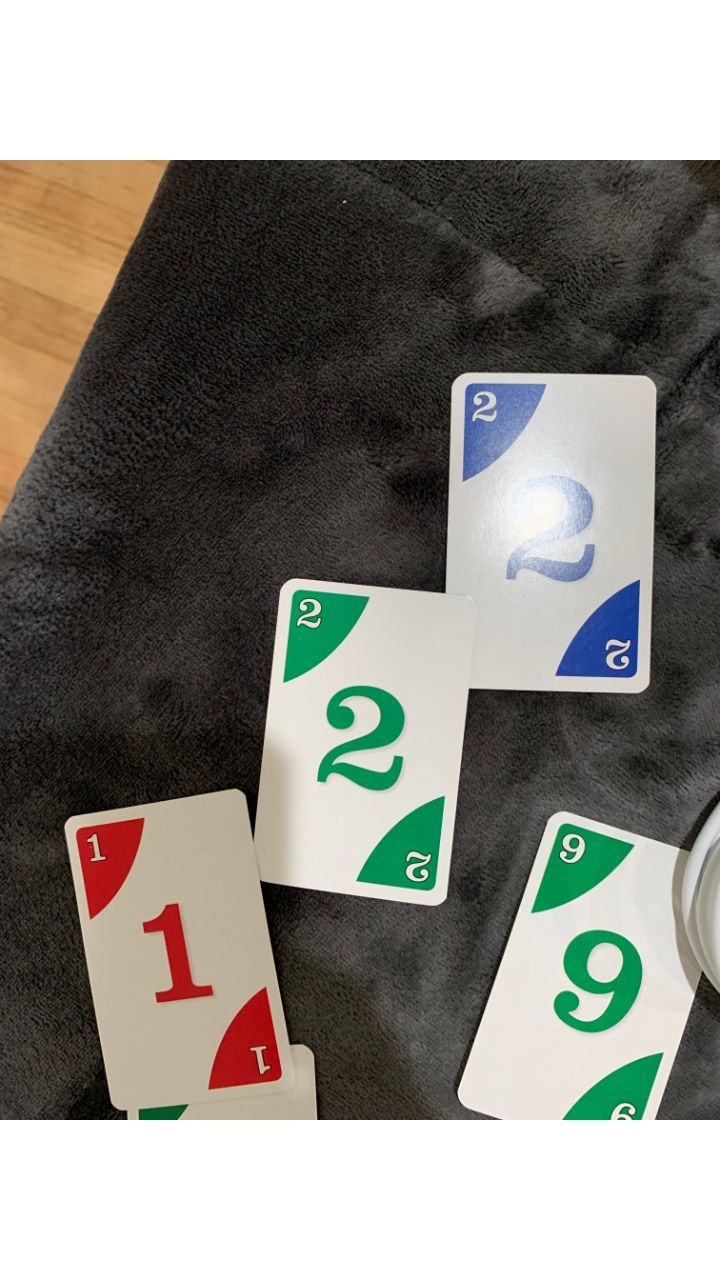nine: (449, 809, 720, 1121)
one: (61, 787, 299, 1111)
two: (244, 575, 472, 911), (440, 373, 662, 698)
